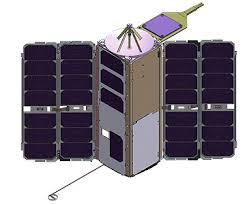antenna: (46, 162, 107, 204), (103, 20, 156, 58)
body: (95, 22, 163, 180)
solar: (199, 39, 238, 106), (57, 41, 96, 108), (163, 40, 201, 107), (22, 42, 59, 109), (98, 47, 128, 116), (58, 110, 97, 161), (199, 108, 236, 159), (164, 107, 200, 159), (22, 111, 59, 161), (108, 129, 125, 165)
